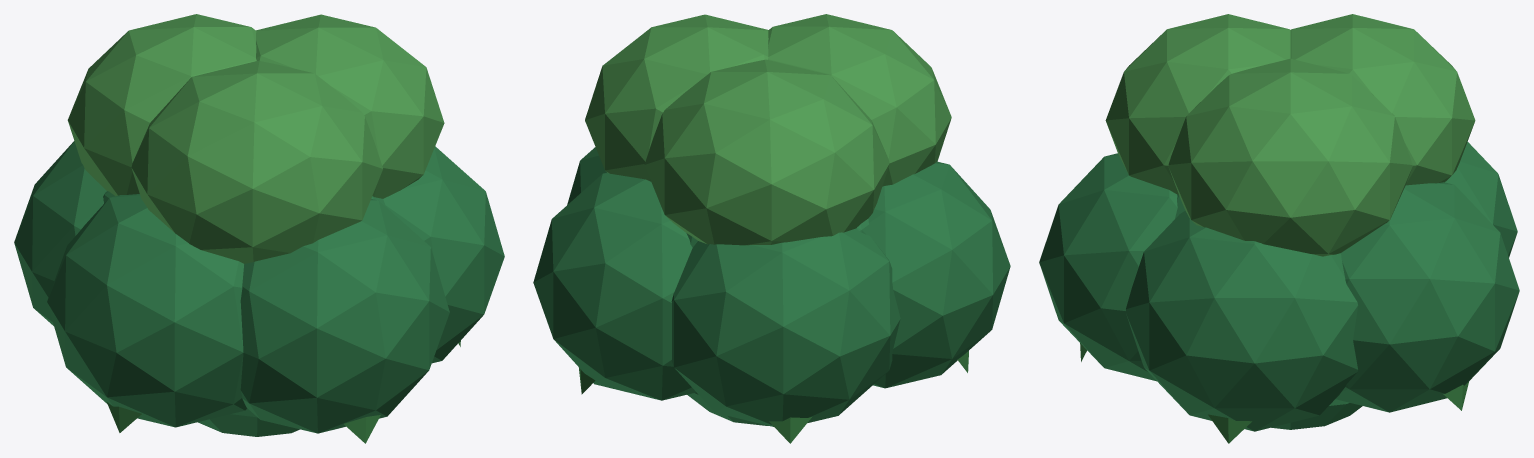
File: IvyLeaves.glb
The picture shows the model from 3 angles, left to right: view 1: azimuth 30°, elevation 25°; view 2: azimuth 150°, elevation 25°; view 3: azimuth 270°, elevation 25°; orthographic projection. The views are drawn at different scales.
Visible parts, largest first — view 1: IvyLeaves_IvyGreen, IvyLeaves_IvyNewGrowth, IvyLeaves_IvyLeafTips; view 2: IvyLeaves_IvyGreen, IvyLeaves_IvyNewGrowth, IvyLeaves_IvyLeafTips; view 3: IvyLeaves_IvyGreen, IvyLeaves_IvyNewGrowth, IvyLeaves_IvyLeafTips.
Boxes of the visible parts, box(x1,y1,x2,y2) form: IvyLeaves_IvyGreen: box(14, 141, 504, 436); IvyLeaves_IvyNewGrowth: box(67, 14, 444, 263); IvyLeaves_IvyLeafTips: box(107, 340, 460, 443); IvyLeaves_IvyGreen: box(533, 147, 1010, 426); IvyLeaves_IvyNewGrowth: box(585, 14, 951, 245); IvyLeaves_IvyLeafTips: box(579, 351, 968, 443); IvyLeaves_IvyGreen: box(1039, 142, 1519, 431); IvyLeaves_IvyNewGrowth: box(1105, 14, 1475, 256); IvyLeaves_IvyLeafTips: box(1080, 343, 1468, 443).
Size of the model in its own units: 3.4 by 2.8 by 3.4.
